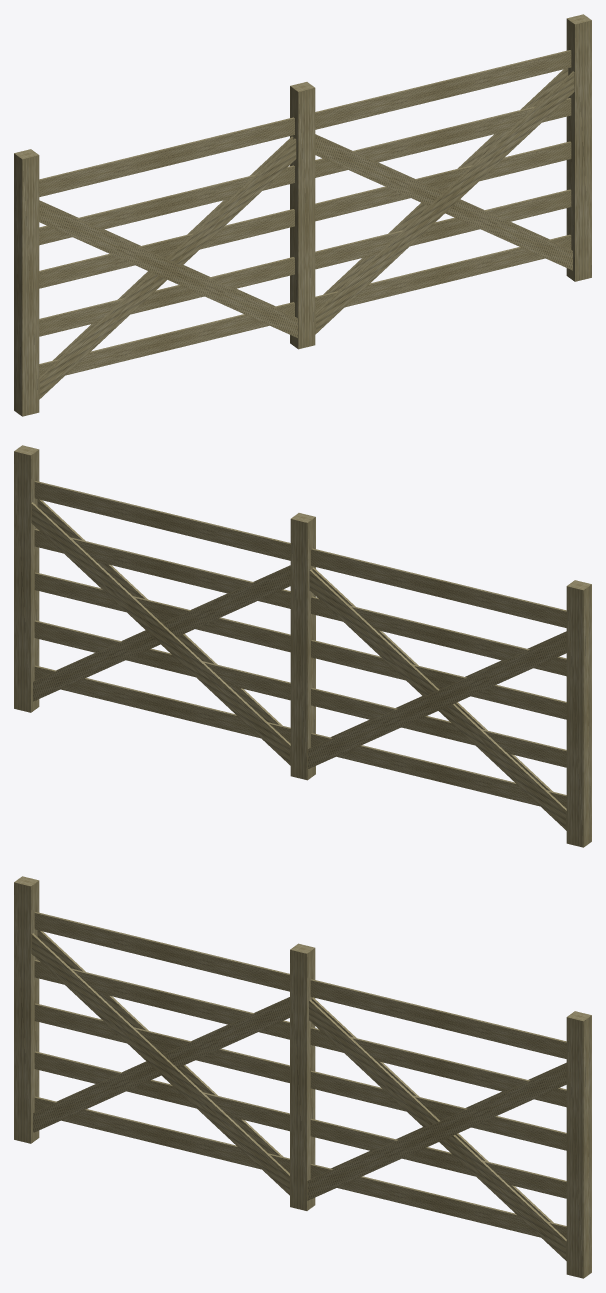
The model's file is LowPolyFence.fbx.
3 views of the same model, one above another, from view 1: azimuth 30°, elevation 25°; view 2: azimuth 150°, elevation 25°; view 3: azimuth 330°, elevation 25° (orthographic).
Visible parts, largest first — view 1: gate; view 2: gate; view 3: gate.
Boxes of the visible parts, <box> form: gate: <box>14,14,591,416</box>; gate: <box>14,445,591,847</box>; gate: <box>14,876,591,1278</box>.
Size of the model in its own units: 599 by 259 by 15.22.
Materials: 1 (1 with a texture image).
